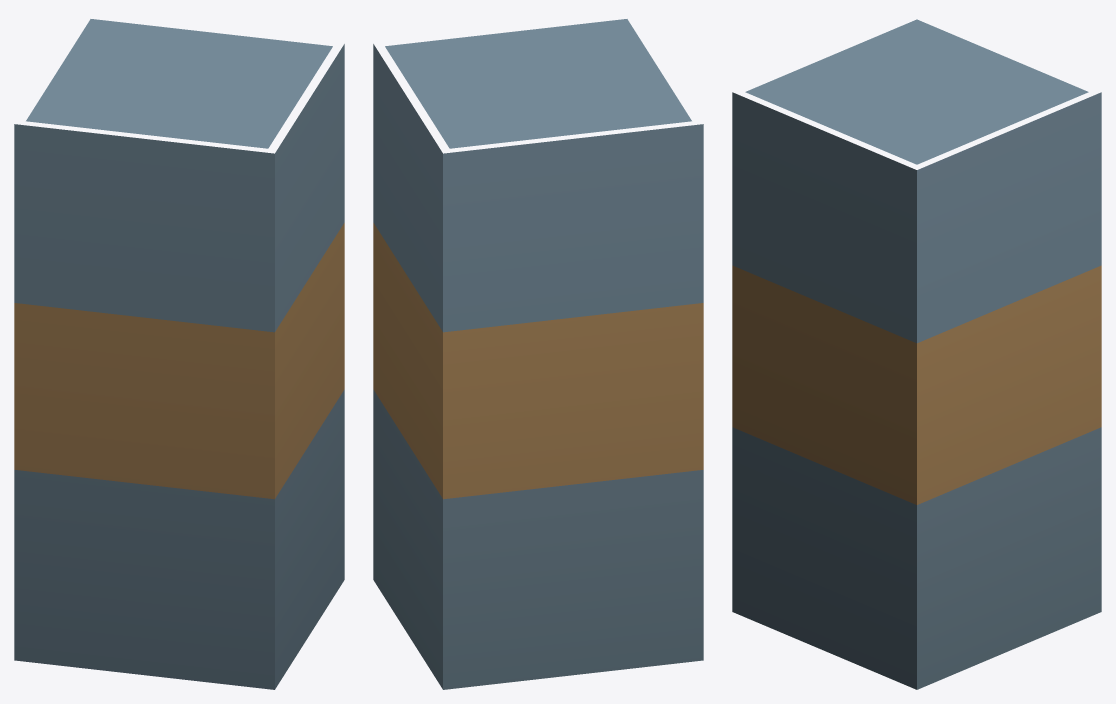
Rendered from drum.lod2.glb.
3 renders of one model, left to right at view 1: azimuth 30°, elevation 25°; view 2: azimuth 150°, elevation 25°; view 3: azimuth 270°, elevation 25°, orthographic. The views are drawn at different scales.
Bounding box in the file's own units: 0.58 × 0.9 × 0.58.
